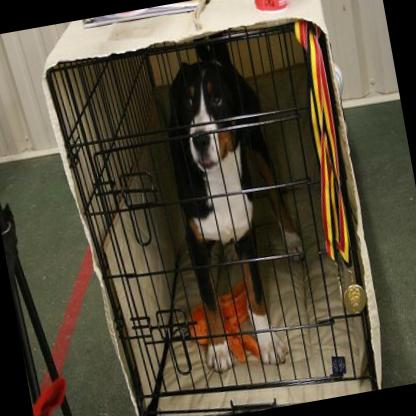Greater_Swiss_Mountain_dog: (153, 48, 321, 374)
